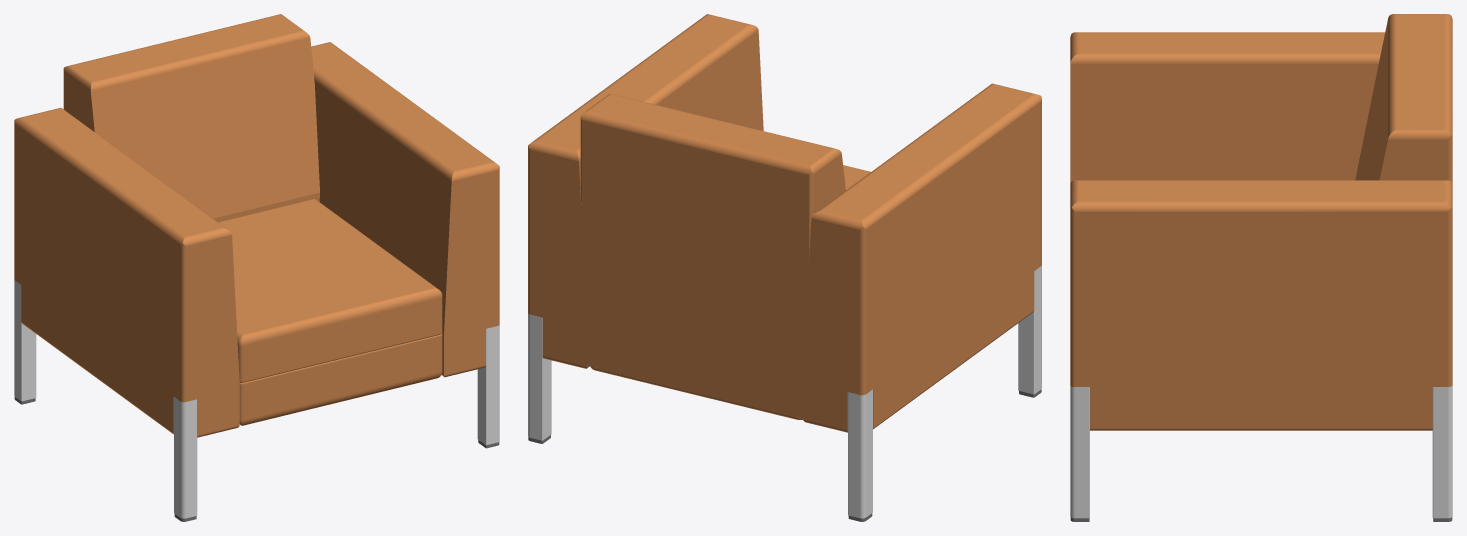
File: Chair2.fbx
3 views of the same model, side by side, from view 1: azimuth 30°, elevation 25°; view 2: azimuth 150°, elevation 25°; view 3: azimuth 270°, elevation 25° (orthographic). The views are drawn at different scales.
Parts seen in each view (by area): view 1: Component#2_001, Component#3_001, Component#2_002, Group#17_003, Group#17_001, Component#9_002, Component#9_003, Component#9_001; view 2: Component#3_001, Component#2_001, Component#2_002, Component#9_001, Component#9_004, Component#9_002, Group_005; view 3: Component#2_002, Component#2_001, Component#3_001, Component#9_004, Component#9_003.
Part boxes in pixels (box(x1,y1,x2,y2)): Component#2_001: box(14, 107, 239, 437); Component#3_001: box(63, 14, 319, 221); Component#2_002: box(311, 42, 499, 377); Group#17_003: box(218, 199, 442, 382); Group#17_001: box(239, 333, 442, 425); Component#9_002: box(174, 397, 197, 518); Component#9_003: box(477, 325, 499, 445); Component#9_001: box(14, 280, 36, 401); Component#3_001: box(580, 93, 845, 418); Component#2_001: box(803, 83, 1041, 432); Component#2_002: box(528, 14, 763, 368); Component#9_001: box(848, 389, 872, 518); Component#9_004: box(528, 313, 551, 440); Component#9_002: box(1018, 265, 1041, 394); Group_005: box(591, 367, 803, 419); Component#2_002: box(1070, 180, 1452, 430); Component#2_001: box(1070, 32, 1385, 182); Component#3_001: box(1355, 14, 1452, 182); Component#9_004: box(1432, 386, 1452, 518); Component#9_003: box(1070, 386, 1089, 518).
Bounding box in the file's own units: 32.87 × 31.69 × 30.31.
